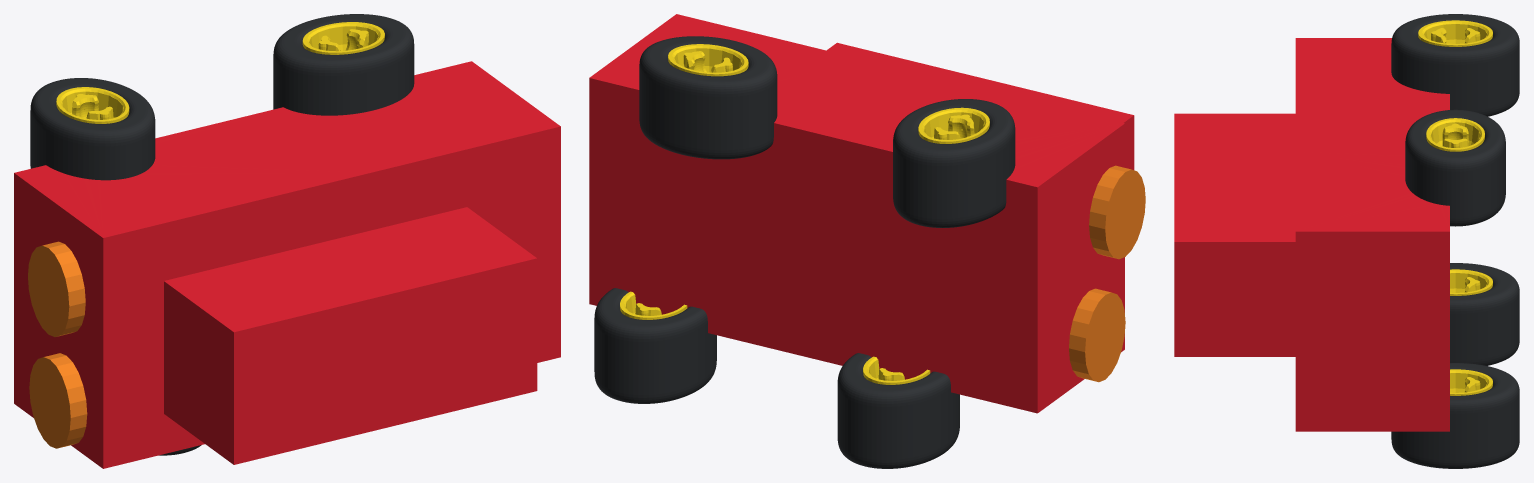
File: tinker.obj
The picture shows the model from 3 angles, left to right: view 1: azimuth 30°, elevation 25°; view 2: azimuth 150°, elevation 25°; view 3: azimuth 270°, elevation 25°; orthographic projection. The views are drawn at different scales.
Parts seen in each view (by area): view 1: group_0_15277357, group_0_2829873, group_0_16089887, group_0_16768282; view 2: group_0_15277357, group_0_2829873, group_0_16089887, group_0_16768282; view 3: group_0_15277357, group_0_2829873, group_0_16768282.
Part boxes in pixels (<box>): group_0_15277357: <box>14,61,560,468</box>; group_0_2829873: <box>30,14,414,455</box>; group_0_16089887: <box>28,241,87,448</box>; group_0_16768282: <box>56,22,384,123</box>; group_0_15277357: <box>589,14,1134,413</box>; group_0_2829873: <box>594,36,1015,468</box>; group_0_16089887: <box>1069,165,1145,382</box>; group_0_16768282: <box>620,44,989,384</box>; group_0_15277357: <box>1174,38,1449,431</box>; group_0_2829873: <box>1391,14,1519,468</box>; group_0_16768282: <box>1418,20,1492,395</box>.
Bounding box in the file's own units: 88 × 60 × 62.62.
